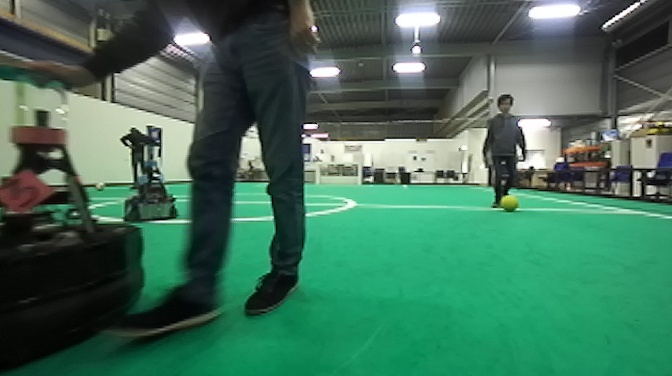ball: (498, 193, 521, 214), (92, 180, 108, 194)
goal: (314, 160, 363, 187)
goalpost: (356, 162, 362, 187), (315, 161, 320, 186)
human: (1, 1, 322, 345), (482, 92, 528, 210), (119, 126, 157, 189)
robot: (1, 70, 149, 376), (120, 137, 179, 225)
